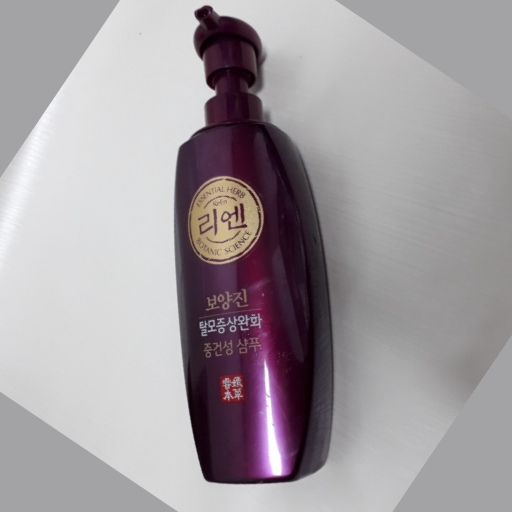Plastic_3: (167, 2, 337, 487)
